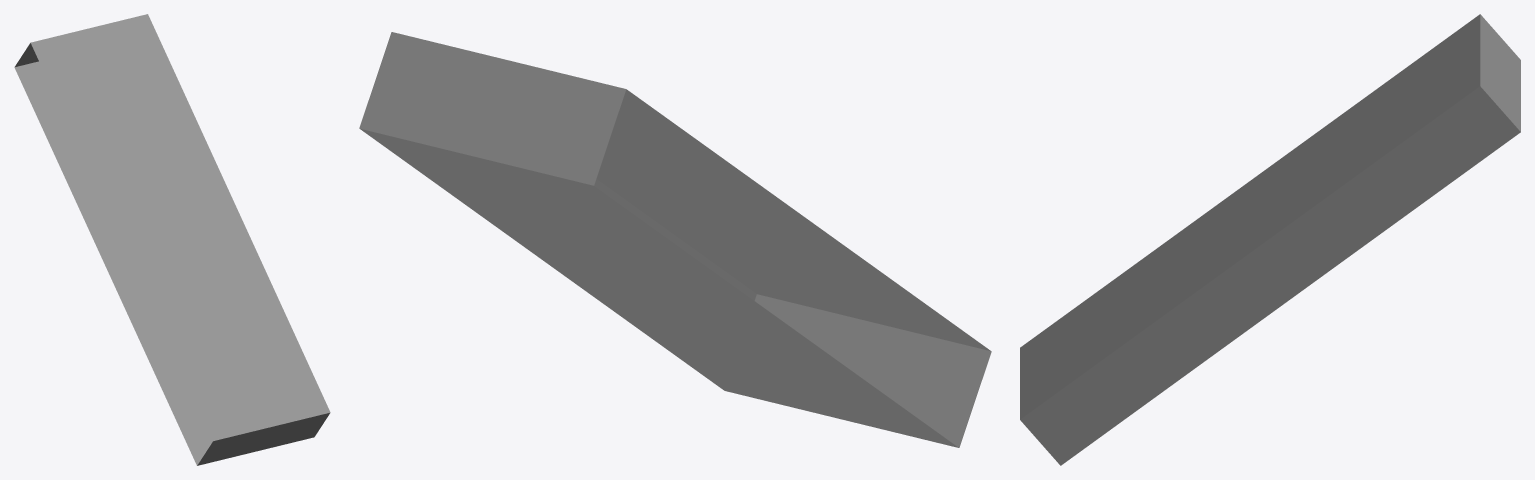
File: SW_ENV_Railing_StairWall_02_Collision.fbx
3 renders of one model, left to right at view 1: azimuth 30°, elevation 25°; view 2: azimuth 150°, elevation 25°; view 3: azimuth 270°, elevation 25°, orthographic. The views are drawn at different scales.
Visible parts, largest first — view 1: SW_ENV_Railing_StairWall_02_Collision; view 2: SW_ENV_Railing_StairWall_02_Collision; view 3: SW_ENV_Railing_StairWall_02_Collision.
Part boxes in pixels (x1,y1,x2,y2): SW_ENV_Railing_StairWall_02_Collision: (14, 14, 330, 465); SW_ENV_Railing_StairWall_02_Collision: (359, 32, 991, 447); SW_ENV_Railing_StairWall_02_Collision: (1020, 14, 1520, 465).
Bounding box in the file's own units: 0.1856 × 0.4552 × 0.5442.
